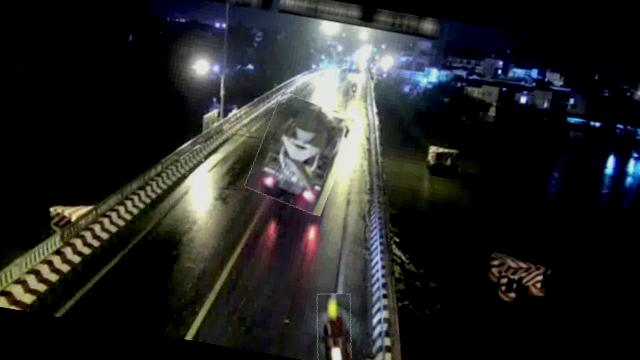Bike: (309, 289, 360, 360)
Truck: (247, 92, 356, 215)
